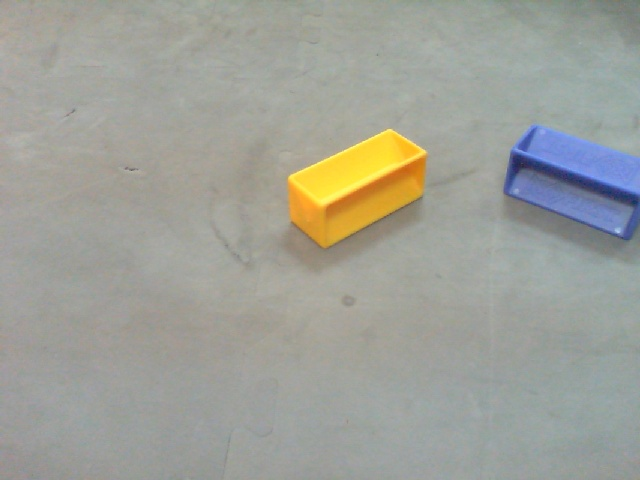BlueSample: (503, 118, 640, 242)
YellowSample: (282, 126, 438, 249)
